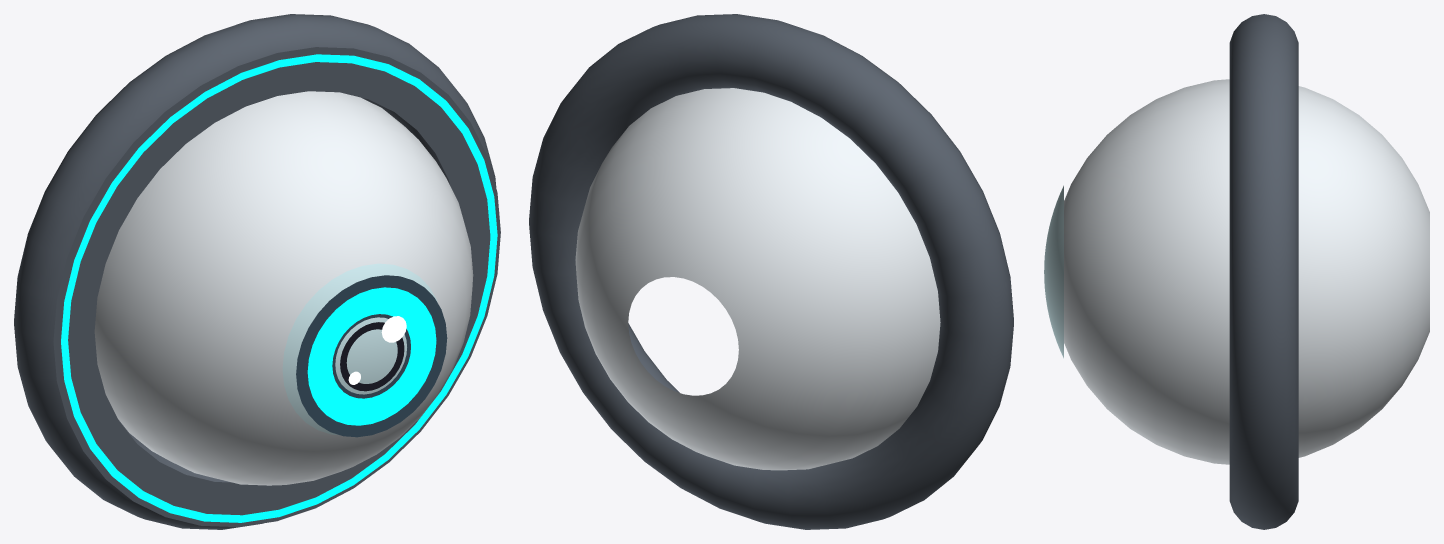
Rendered from FloatingEye.glb.
3 renders of one model, left to right at view 1: azimuth 30°, elevation 25°; view 2: azimuth 150°, elevation 25°; view 3: azimuth 270°, elevation 25°, orthographic. The views are drawn at different scales.
Visible parts, largest first — view 1: 04_Sclera, 02_Chassis_Rim, 01_Chassis_Outer, 03_Neon_Accent_Ring, 07_Iris_Cyan_Ring, 05_Eye_Lens, 08_Iris_Dark_Ring, 06_Iris, 09_Pupil; view 2: 04_Sclera, 01_Chassis_Outer; view 3: 04_Sclera, 01_Chassis_Outer, 05_Eye_Lens.
Part boxes in pixels (x1=…): 04_Sclera: x1=94, y1=91, x2=473, y2=485; 02_Chassis_Rim: x1=53, y1=47, x2=500, y2=527; 01_Chassis_Outer: x1=14, y1=14, x2=496, y2=529; 03_Neon_Accent_Ring: x1=61, y1=54, x2=497, y2=522; 07_Iris_Cyan_Ring: x1=307, y1=287, x2=436, y2=425; 05_Eye_Lens: x1=282, y1=263, x2=437, y2=435; 08_Iris_Dark_Ring: x1=297, y1=276, x2=447, y2=437; 06_Iris: x1=296, y1=275, x2=414, y2=423; 09_Pupil: x1=340, y1=322, x2=404, y2=391; 04_Sclera: x1=575, y1=88, x2=940, y2=470; 01_Chassis_Outer: x1=529, y1=14, x2=1013, y2=529; 04_Sclera: x1=1064, y1=79, x2=1429, y2=464; 01_Chassis_Outer: x1=1229, y1=14, x2=1298, y2=529; 05_Eye_Lens: x1=1044, y1=185, x2=1063, y2=358.
Bounding box in the file's own units: 2.66 × 2.66 × 1.98.
